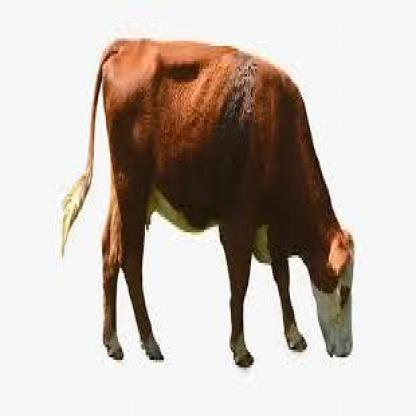cow: (64, 38, 355, 367)
